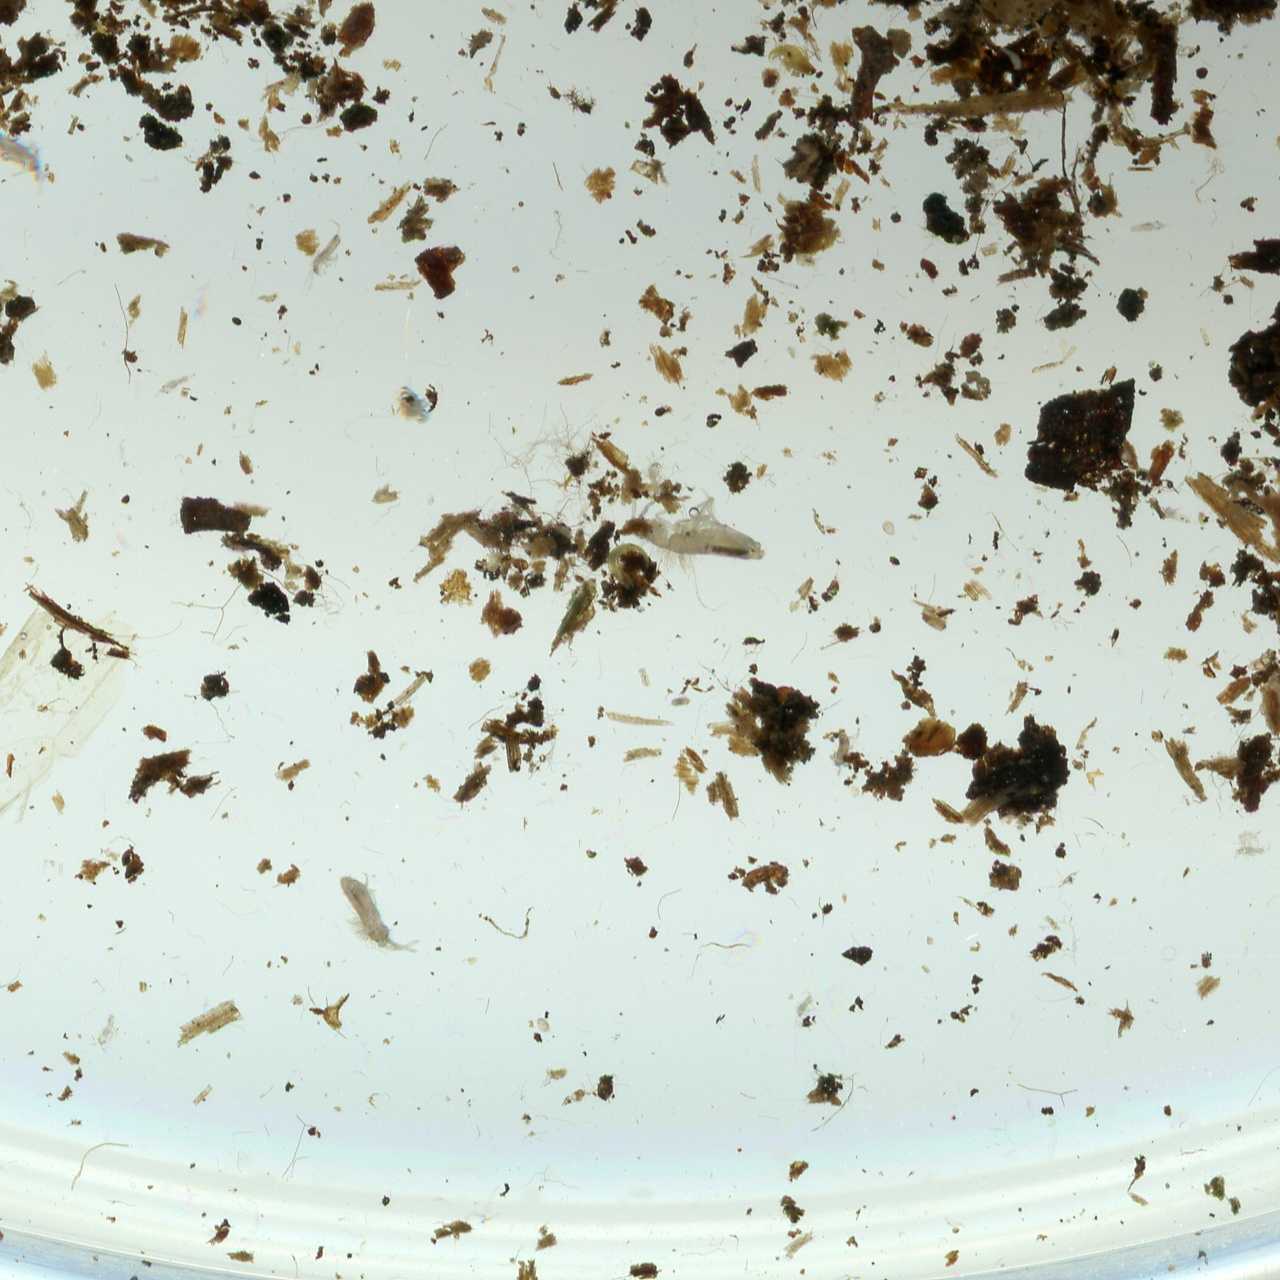arthropod: (625, 492, 772, 578), (326, 858, 425, 974), (286, 213, 361, 300), (0, 105, 66, 202), (826, 728, 864, 778), (150, 367, 199, 402), (1156, 499, 1205, 532), (785, 986, 824, 1026), (90, 1009, 121, 1055), (642, 449, 670, 496), (1231, 839, 1272, 862), (1128, 219, 1175, 234), (1233, 829, 1261, 847), (745, 0, 779, 12)
